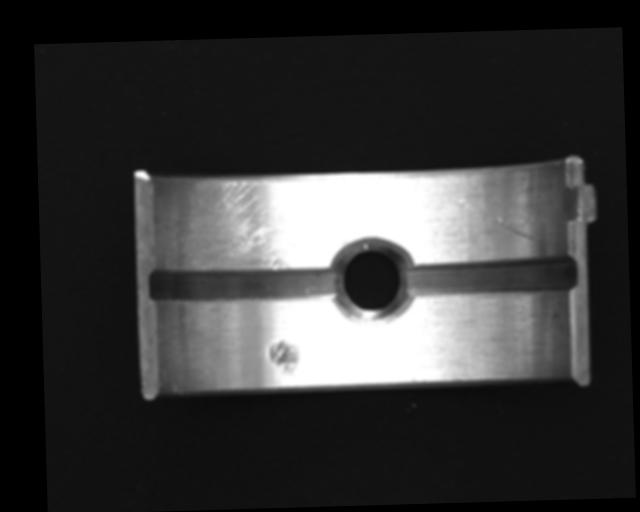bruise: (267, 337, 299, 375)
gap: (149, 261, 343, 305), (404, 256, 577, 297)
hole: (333, 239, 413, 325)
nick: (456, 194, 541, 248)
scratch: (158, 173, 337, 272)
